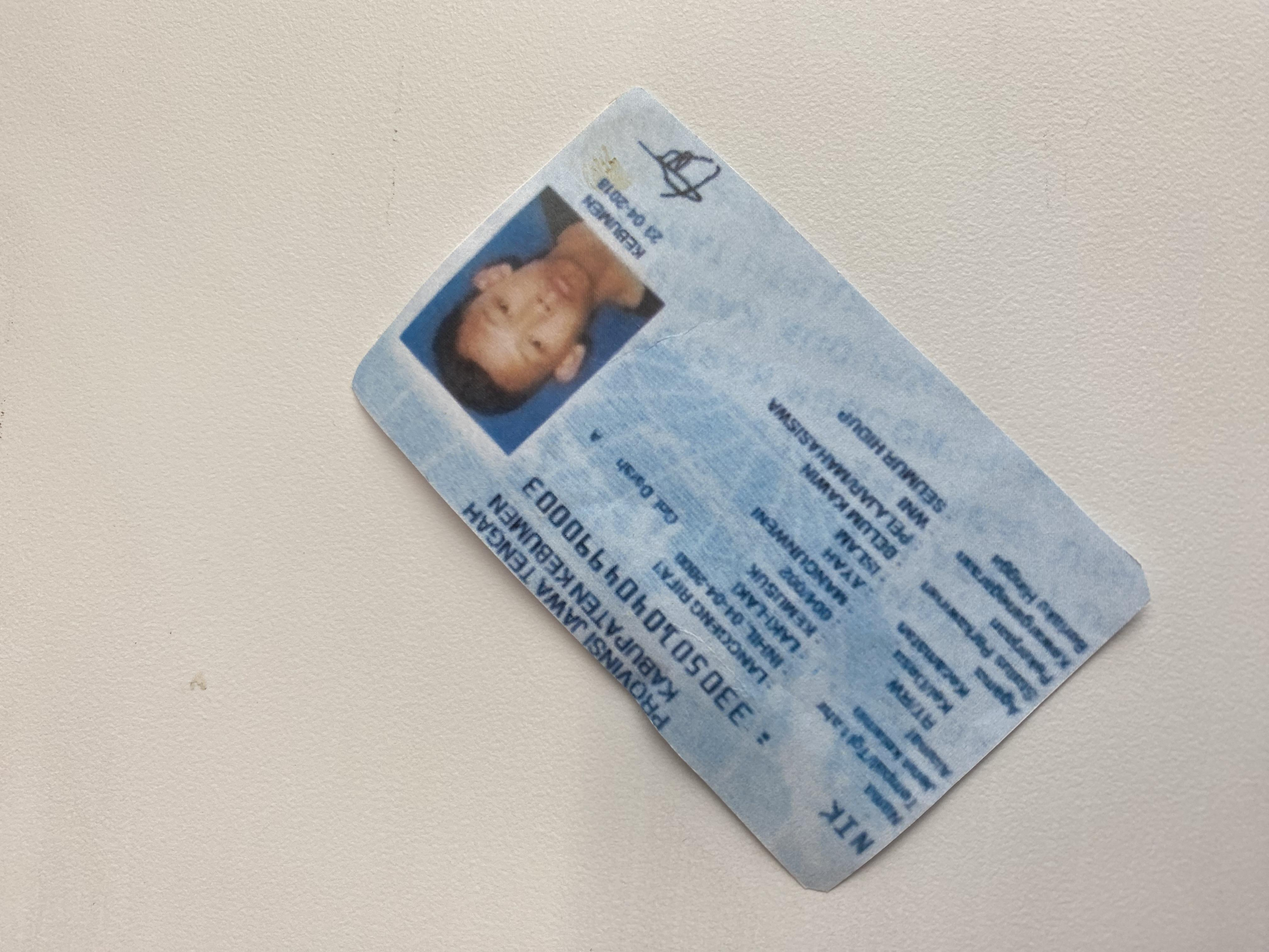ID-card: (70, 257, 1166, 867)
